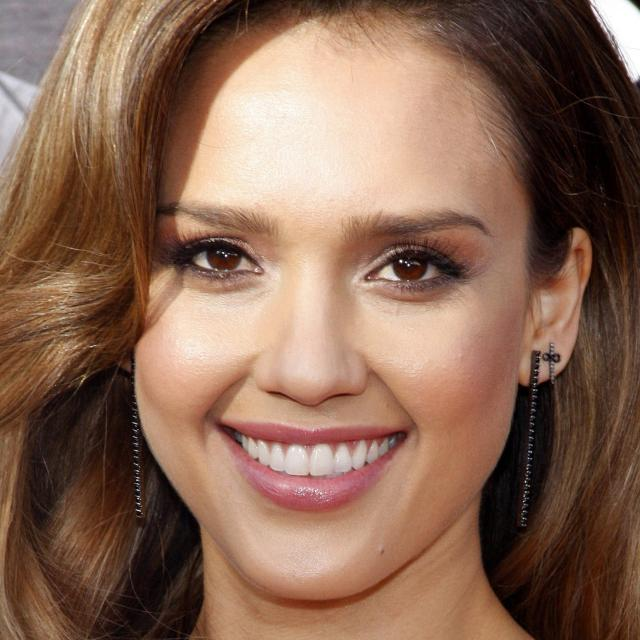Normal: (134, 17, 533, 597)
